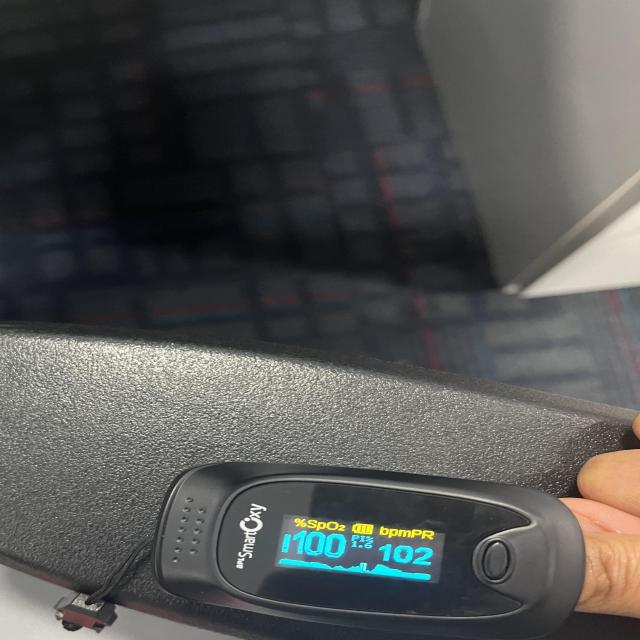spo2: (133, 464, 588, 640)
